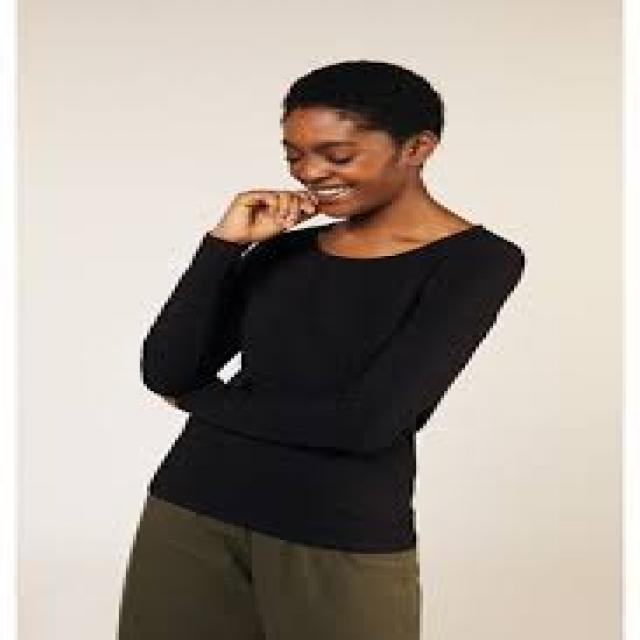plain: (139, 225, 526, 551)
